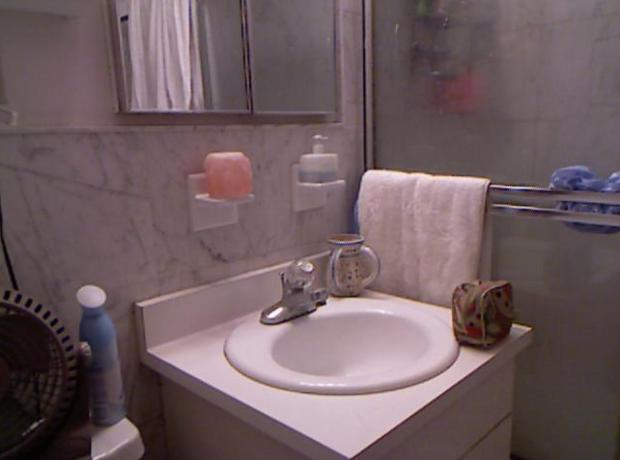Lavamanos: (220, 250, 472, 423)
